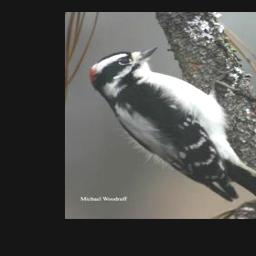Woodpecker: (89, 46, 256, 211)
